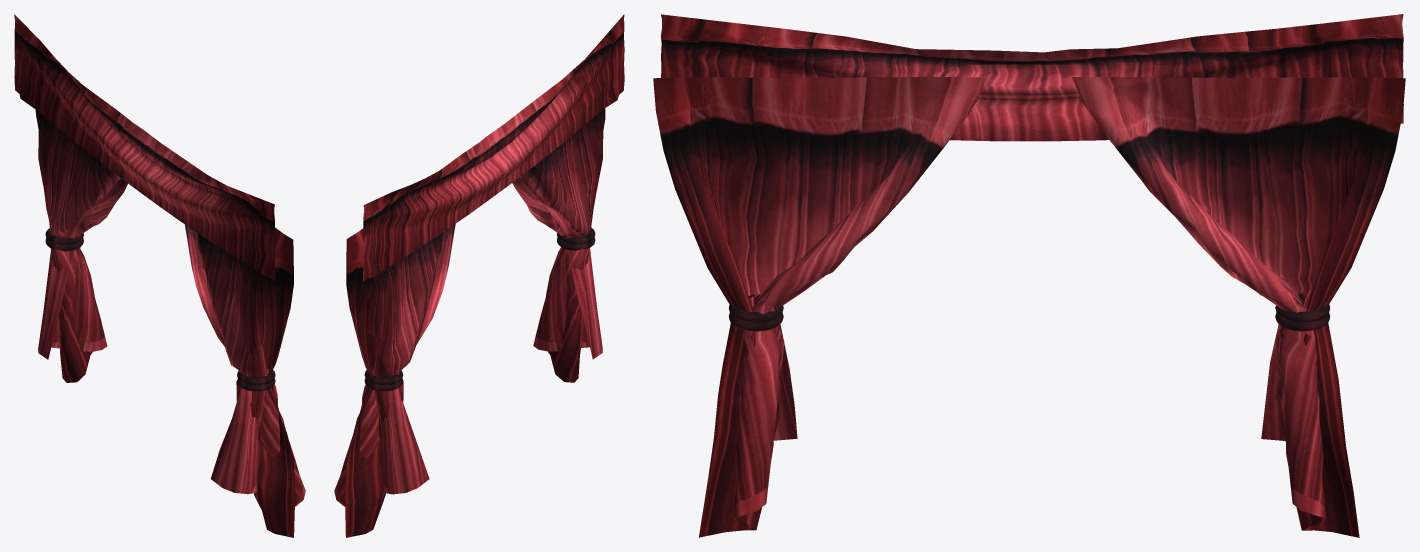
File: Curtain.glb
The picture shows the model from 3 angles, left to right: view 1: azimuth 30°, elevation 25°; view 2: azimuth 150°, elevation 25°; view 3: azimuth 270°, elevation 25°; orthographic projection. The views are drawn at different scales.
Visible parts, largest first — view 1: Grid, Grid.001, Torus, Torus.001; view 2: Grid, Grid.001, Torus, Torus.001; view 3: Grid, Grid.001, Torus, Torus.001.
Part boxes in pixels (left/top/right/bottom): Grid: left=35, top=110, right=305, bottom=537; Grid.001: left=14, top=14, right=275, bottom=280; Torus: left=45, top=228, right=275, bottom=385; Torus.001: left=45, top=238, right=275, bottom=391; Grid: left=334, top=108, right=605, bottom=537; Grid.001: left=362, top=14, right=624, bottom=281; Torus: left=364, top=227, right=595, bottom=385; Torus.001: left=364, top=237, right=595, bottom=391; Grid: left=653, top=77, right=1405, bottom=537; Grid.001: left=661, top=14, right=1403, bottom=141; Torus: left=729, top=293, right=1329, bottom=322; Torus.001: left=728, top=304, right=1330, bottom=331.
Bounding box in the file's own units: 2.08 × 9.18 × 12.47.
Materials: 1 (1 with a texture image).
